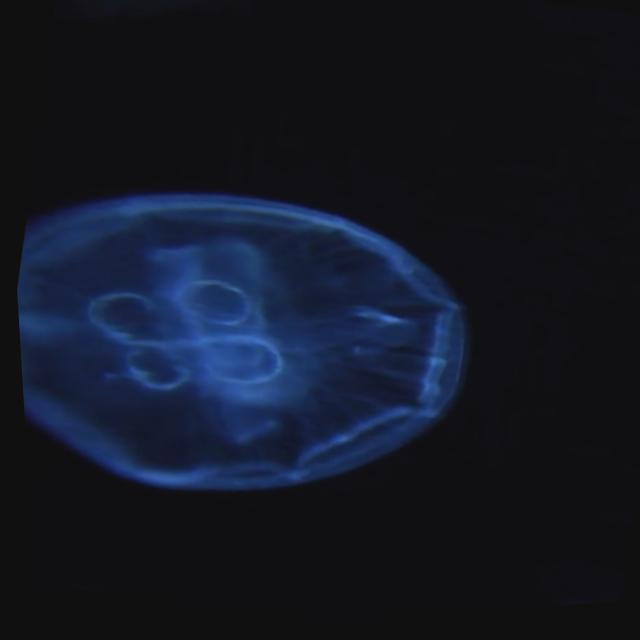Moon-jellyfish: (13, 190, 468, 497)
